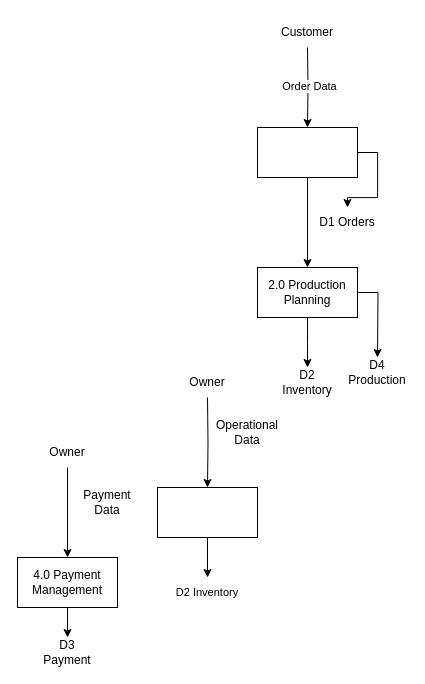
Image size: 425x684. Some labels were removed from this diagram. Each missing label, with the box of its shape:
1.0 Order Management: (256, 126, 358, 178)
3.0 Inventory Management: (156, 486, 258, 538)
